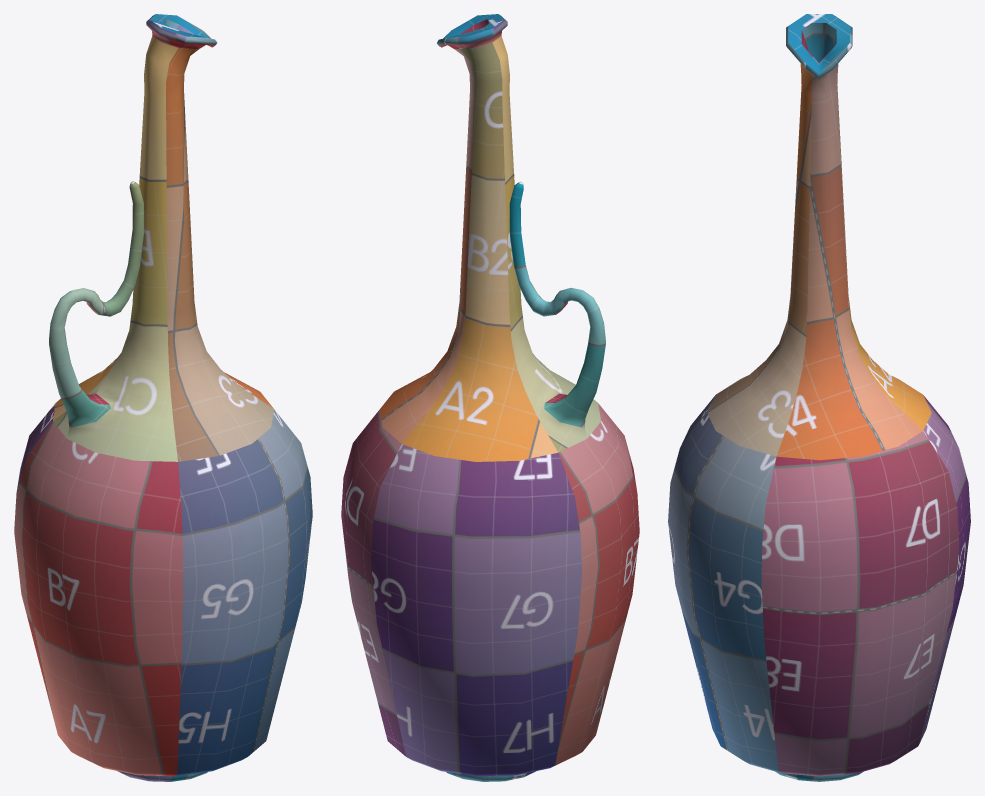
Rendered from LongVase_SHAT.fbx.
3 views of the same model, side by side, from view 1: azimuth 30°, elevation 25°; view 2: azimuth 150°, elevation 25°; view 3: azimuth 270°, elevation 25° (orthographic).
Parts seen in each view (by area): view 1: LongVase_SHAT.001; view 2: LongVase_SHAT.001; view 3: LongVase_SHAT.001.
Boxes of the visible parts, x1=… form: LongVase_SHAT.001: x1=14, y1=14, x2=312, y2=781; LongVase_SHAT.001: x1=341, y1=14, x2=639, y2=781; LongVase_SHAT.001: x1=668, y1=14, x2=970, y2=781.
Size of the model in its own units: 1.12 by 3.02 by 1.12.
Materials: 2 (1 with a texture image).
